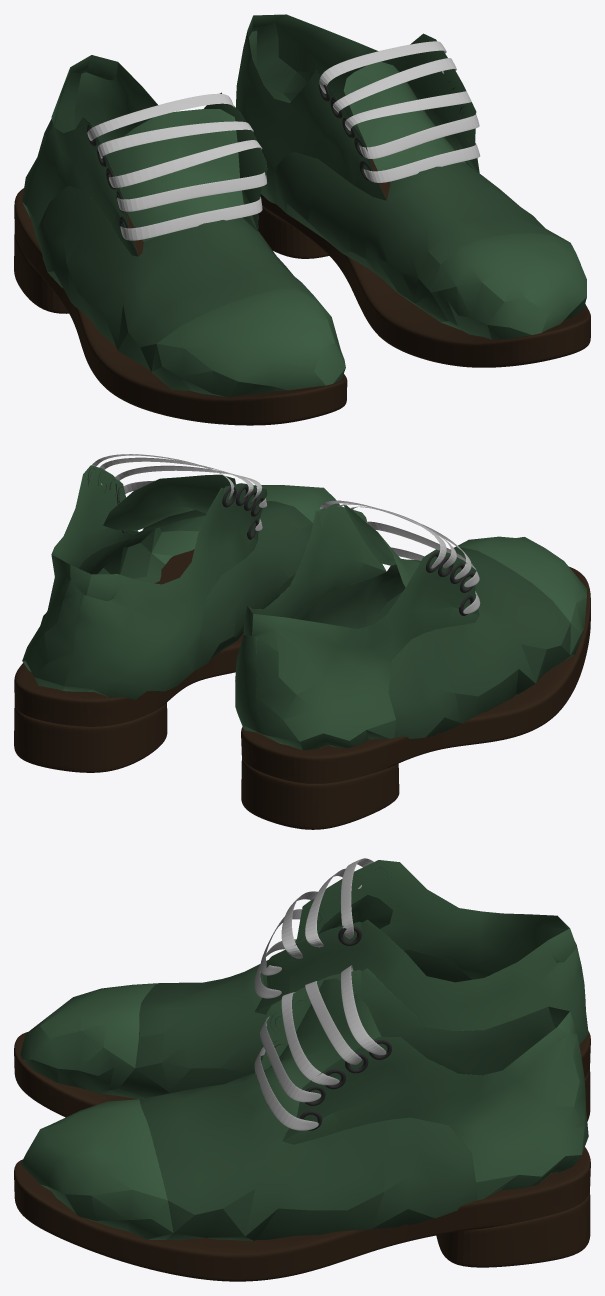
3 views of the same model, one above another, from view 1: azimuth 30°, elevation 25°; view 2: azimuth 150°, elevation 25°; view 3: azimuth 270°, elevation 25° (orthographic). The views are drawn at different scales.
Parts seen in each view (by area): view 1: ZAPATO1_3.001, ZAPATO1_3, Plane.011, Plane, Plane.009, Plane.006, Plane.010, Plane.008, Plane.007, Plane.002, Plane.003, Plane.004 (+2 smaller); view 2: ZAPATO1_3.001, ZAPATO1_3, Plane.011, Plane, Plane.009, Plane.001, Plane.003, Plane.007; view 3: ZAPATO1_3, ZAPATO1_3.001, Plane, Plane.011, Plane.001, Plane.004, Plane.003, Plane.005, Plane.002, Plane.007, Plane.008, Plane.010.
Boxes of the visible parts, left/top/right/bottom form: ZAPATO1_3.001: left=22, top=55, right=345, bottom=396; ZAPATO1_3: left=236, top=14, right=586, bottom=339; Plane.011: left=14, top=188, right=347, bottom=425; Plane: left=258, top=159, right=590, bottom=367; Plane.009: left=117, top=172, right=266, bottom=211; Plane.006: left=120, top=196, right=262, bottom=240; Plane.010: left=109, top=140, right=262, bottom=187; Plane.008: left=97, top=121, right=253, bottom=158; Plane.007: left=87, top=93, right=234, bottom=140; Plane.002: left=359, top=114, right=479, bottom=158; Plane.003: left=333, top=58, right=456, bottom=112; Plane.004: left=319, top=41, right=446, bottom=93; ZAPATO1_3.001: left=235, top=505, right=586, bottom=750; ZAPATO1_3: left=22, top=465, right=339, bottom=699; Plane.011: left=241, top=566, right=590, bottom=829; Plane: left=14, top=549, right=243, bottom=772; Plane.009: left=366, top=521, right=479, bottom=587; Plane.001: left=115, top=465, right=262, bottom=501; Plane.003: left=99, top=457, right=253, bottom=497; Plane.007: left=320, top=500, right=446, bottom=568; ZAPATO1_3: left=20, top=968, right=588, bottom=1240; ZAPATO1_3.001: left=20, top=860, right=588, bottom=1099; Plane: left=14, top=1147, right=590, bottom=1281; Plane.011: left=14, top=1031, right=590, bottom=1121; Plane.001: left=281, top=992, right=339, bottom=1085; Plane.004: left=340, top=965, right=386, bottom=1055; Plane.003: left=305, top=981, right=361, bottom=1064; Plane.005: left=254, top=1047, right=318, bottom=1130; Plane.002: left=260, top=1016, right=321, bottom=1102; Plane.007: left=340, top=858, right=373, bottom=938; Plane.008: left=305, top=868, right=361, bottom=947; Plane.010: left=281, top=891, right=317, bottom=958.
Bounding box in the file's own units: 412 × 209 × 447.
